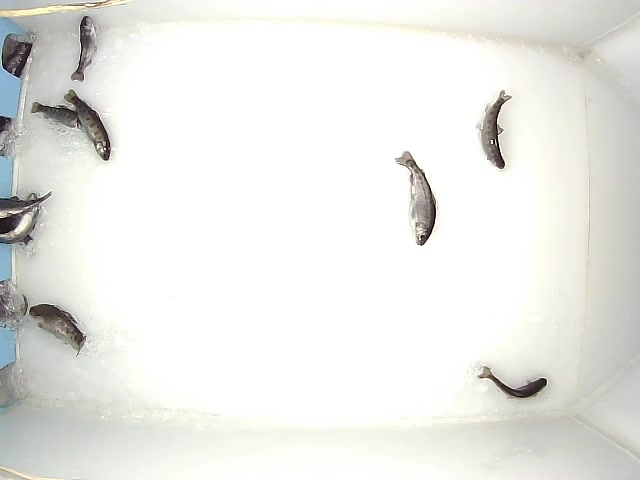fish: (394, 150, 436, 246), (63, 88, 111, 161), (29, 304, 87, 358), (476, 90, 512, 169), (477, 366, 547, 400), (30, 101, 93, 133), (3, 193, 40, 246), (71, 16, 98, 82)
